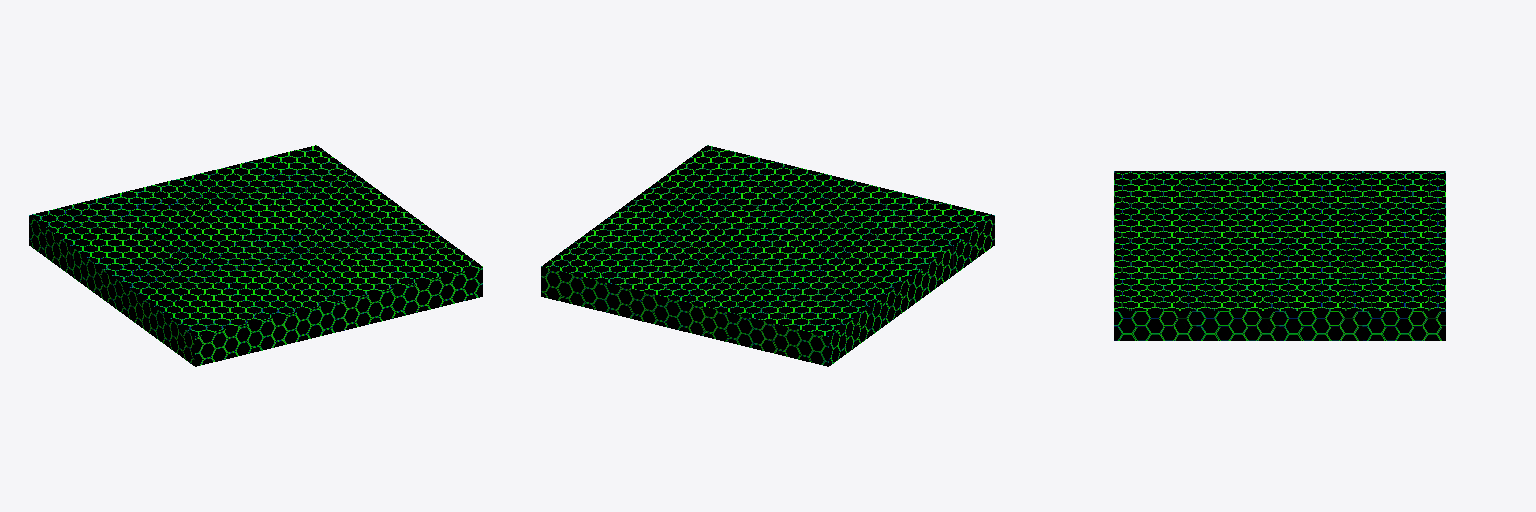
3 views of the same model, side by side, from view 1: azimuth 30°, elevation 25°; view 2: azimuth 150°, elevation 25°; view 3: azimuth 270°, elevation 25° (orthographic).
Visible parts, largest first — view 1: 立方体_立方体.005; view 2: 立方体_立方体.005; view 3: 立方体_立方体.005.
Boxes of the visible parts, box(x1,y1,x2,y2) form: 立方体_立方体.005: box(29, 145, 482, 366); 立方体_立方体.005: box(541, 145, 994, 366); 立方体_立方体.005: box(1114, 171, 1445, 340).
Bounding box in the file's own units: 20 × 2 × 20.
1 materials, 1 textured.